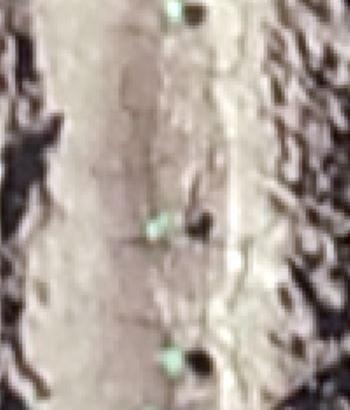cotton: (164, 347, 183, 378), (141, 215, 166, 238), (166, 2, 184, 23)
